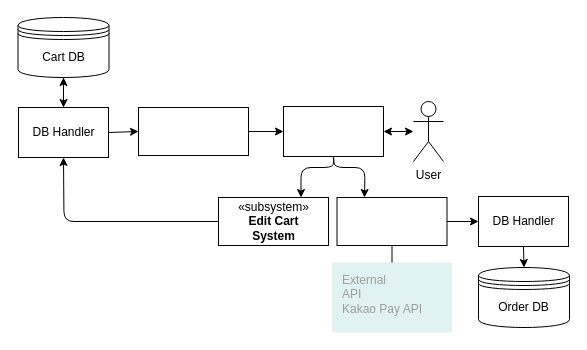
Some shapes in this 587 by 350 pixel diagram are drawn without their labels. Each missing label, with the centre of its shape:
"User Interface" goes at point 333,131.
"«subsystem» Cart Display System" goes at point 193,131.
"«subsystem» Order System" goes at point 391,221.
